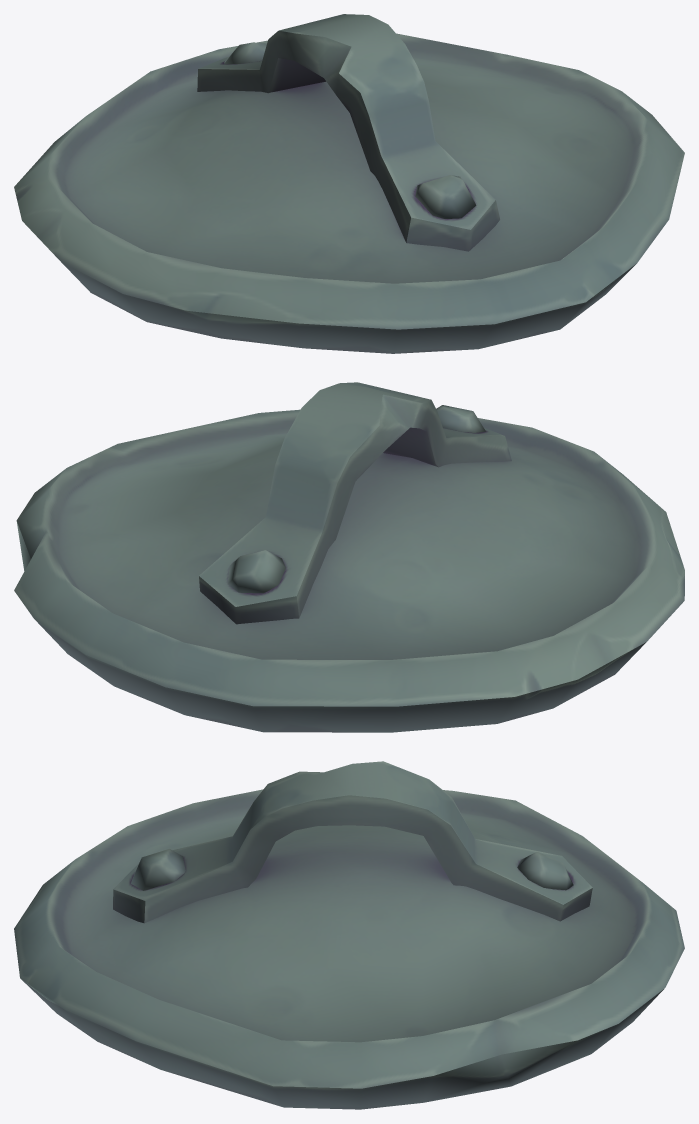
Rendered from SM_FW01_CampProp_Lid_01.fbx.
The picture shows the model from 3 angles, top to bottom: view 1: azimuth 30°, elevation 25°; view 2: azimuth 150°, elevation 25°; view 3: azimuth 270°, elevation 25°; orthographic projection. The views are drawn at different scales.
Parts seen in each view (by area): view 1: SM_FW01_CampProp_Lid_01_LOD0; view 2: SM_FW01_CampProp_Lid_01_LOD0; view 3: SM_FW01_CampProp_Lid_01_LOD0.
Part boxes in pixels (<box>): SM_FW01_CampProp_Lid_01_LOD0: <box>14,14,684,353</box>; SM_FW01_CampProp_Lid_01_LOD0: <box>14,382,684,732</box>; SM_FW01_CampProp_Lid_01_LOD0: <box>14,761,684,1109</box>.
Size of what is drawn, in the model's own units: 0.7822 by 0.2597 by 0.7637.
